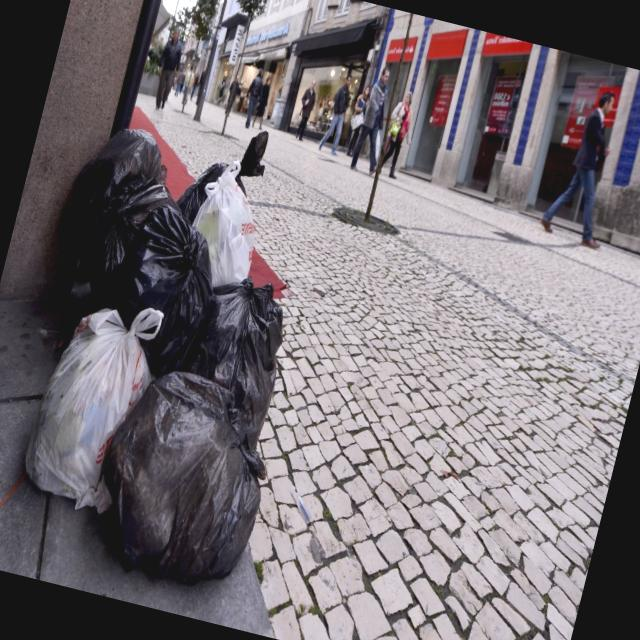garbage: (0, 89, 350, 608)
